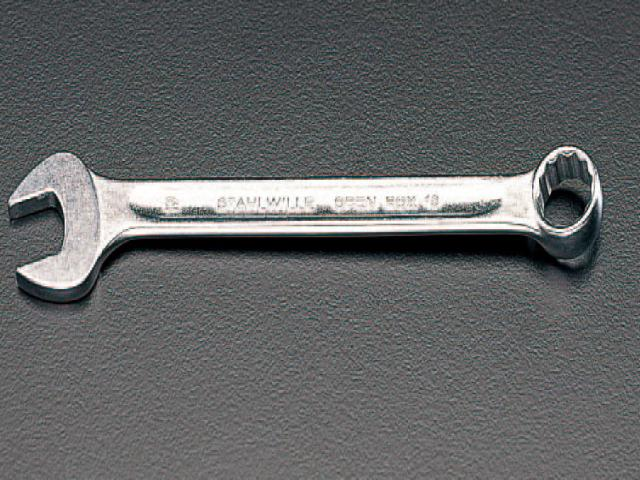Wrench: (9, 146, 602, 302)
